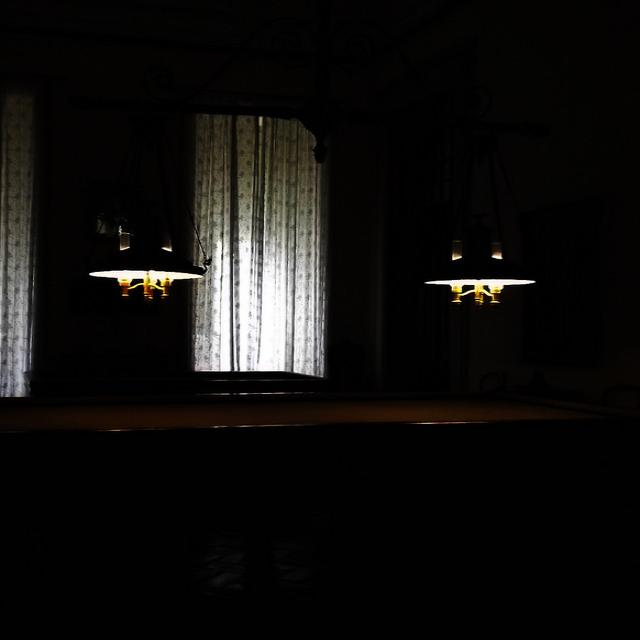Table: (0, 366, 584, 556)
